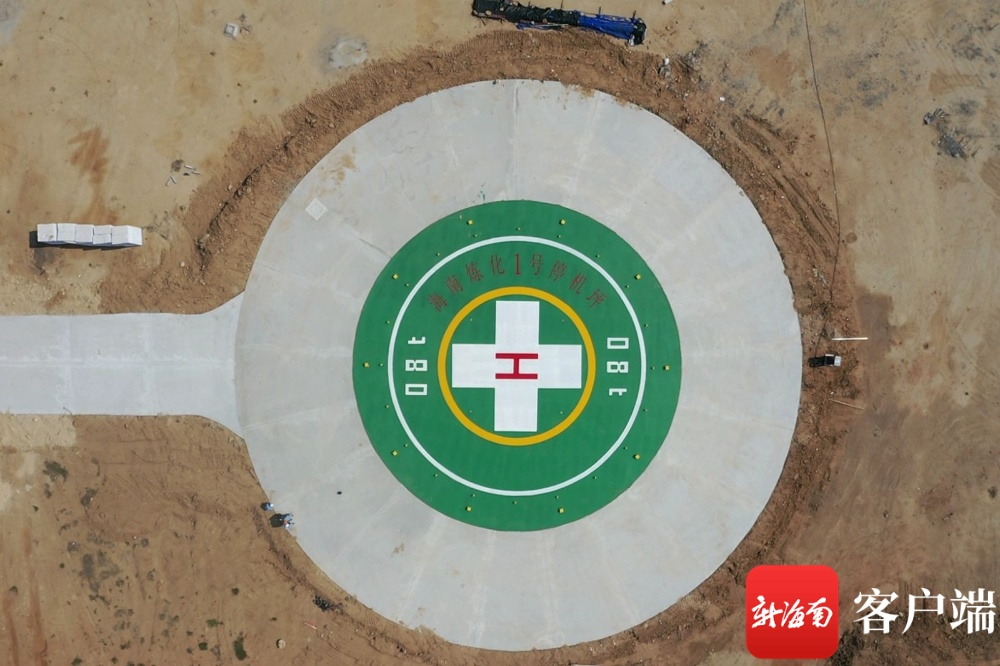H: (496, 351, 540, 379)
